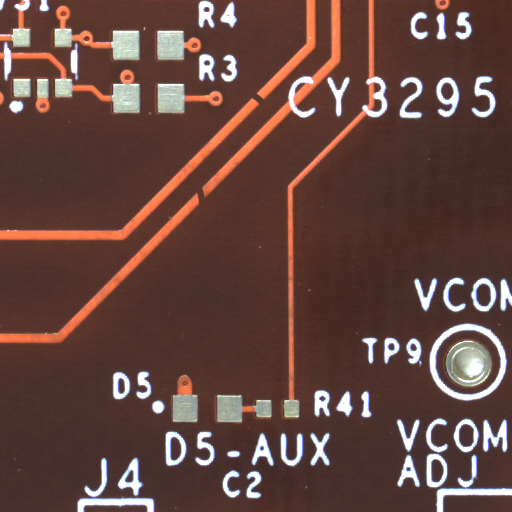Open_circuit: (258, 98, 277, 119), (201, 194, 211, 219)
